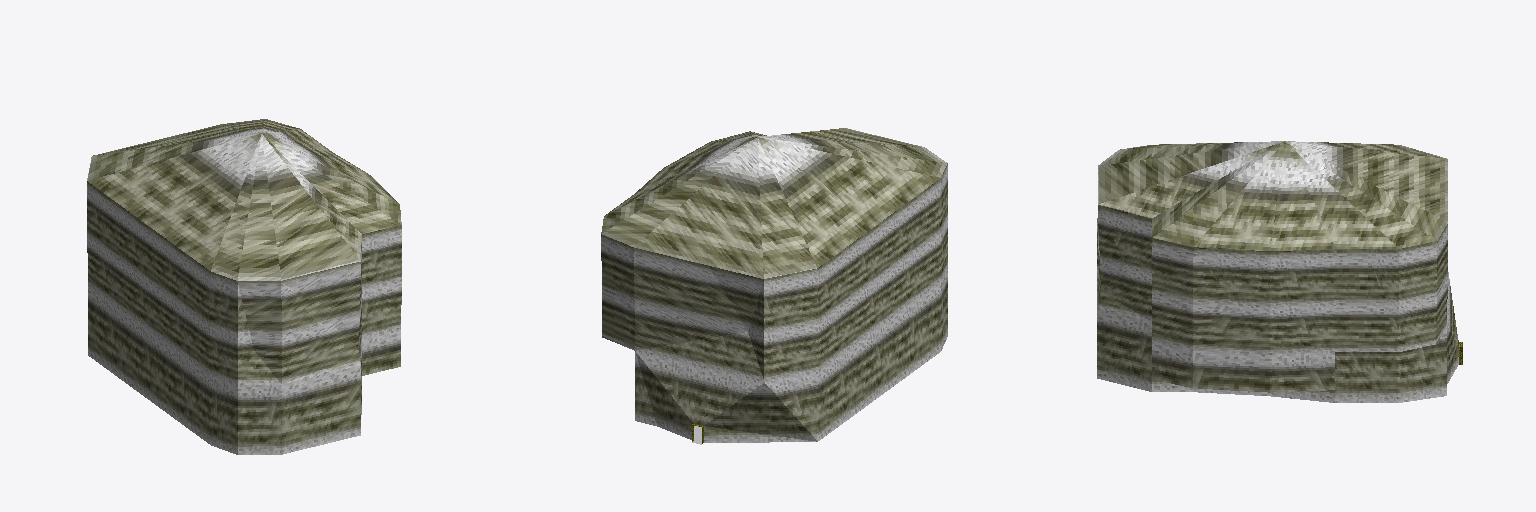
3 views of the same model, side by side, from view 1: azimuth 30°, elevation 25°; view 2: azimuth 150°, elevation 25°; view 3: azimuth 270°, elevation 25° (orthographic).
Parts seen in each view (by area): view 1: Floor2#RoomB; view 2: Floor2#RoomB; view 3: Floor2#RoomB.
Part boxes in pixels (x1,y1,x2,y2): Floor2#RoomB: (87,119,401,454); Floor2#RoomB: (601,128,947,444); Floor2#RoomB: (1097,141,1462,402).
Size of the model in its own units: 1315 by 1366 by 1903.
Materials: 6 (2 with a texture image).